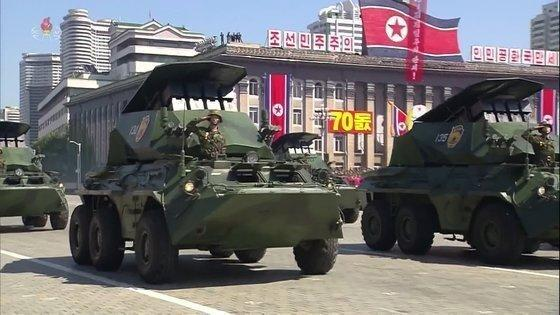MIL_IFV: (67, 62, 369, 283), (364, 77, 559, 253)
